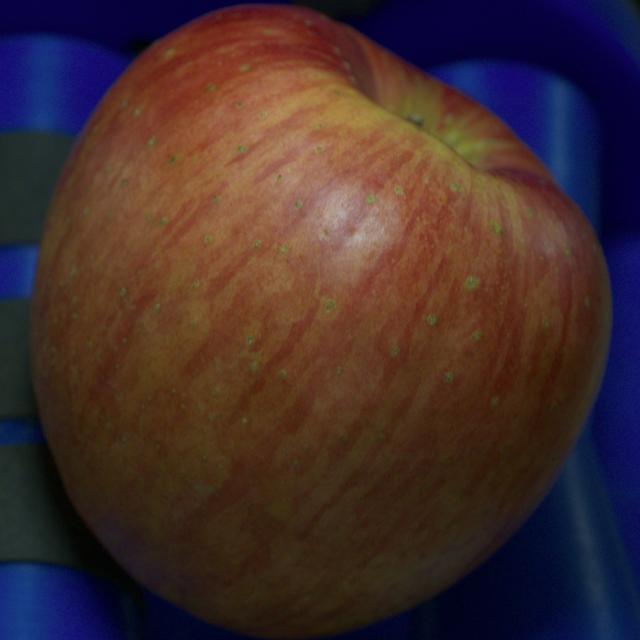apple: (29, 6, 611, 638)
